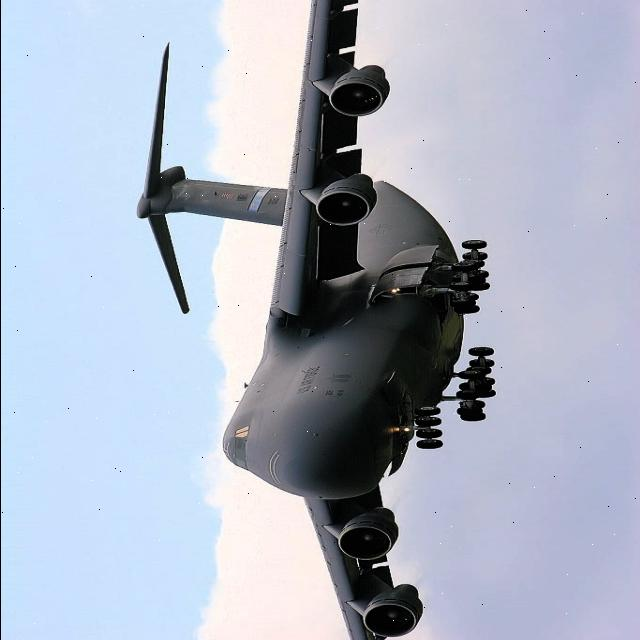C5: (99, 0, 516, 640)
